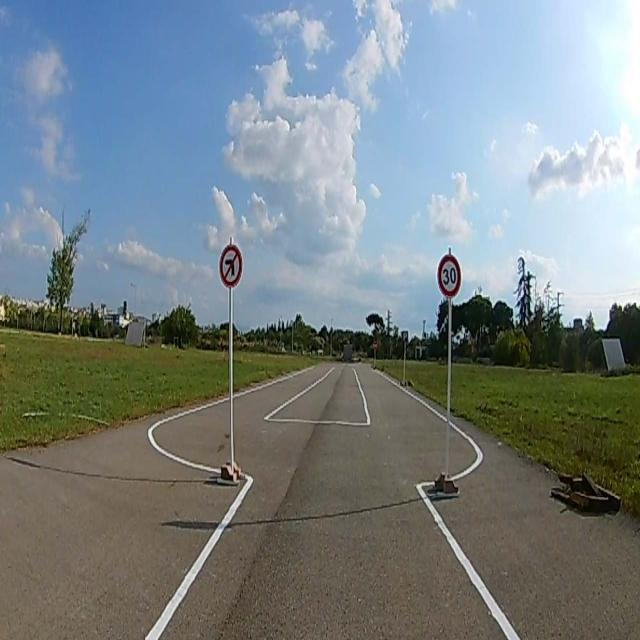30: (436, 256, 462, 297)
soladonulmez: (219, 245, 242, 288)
